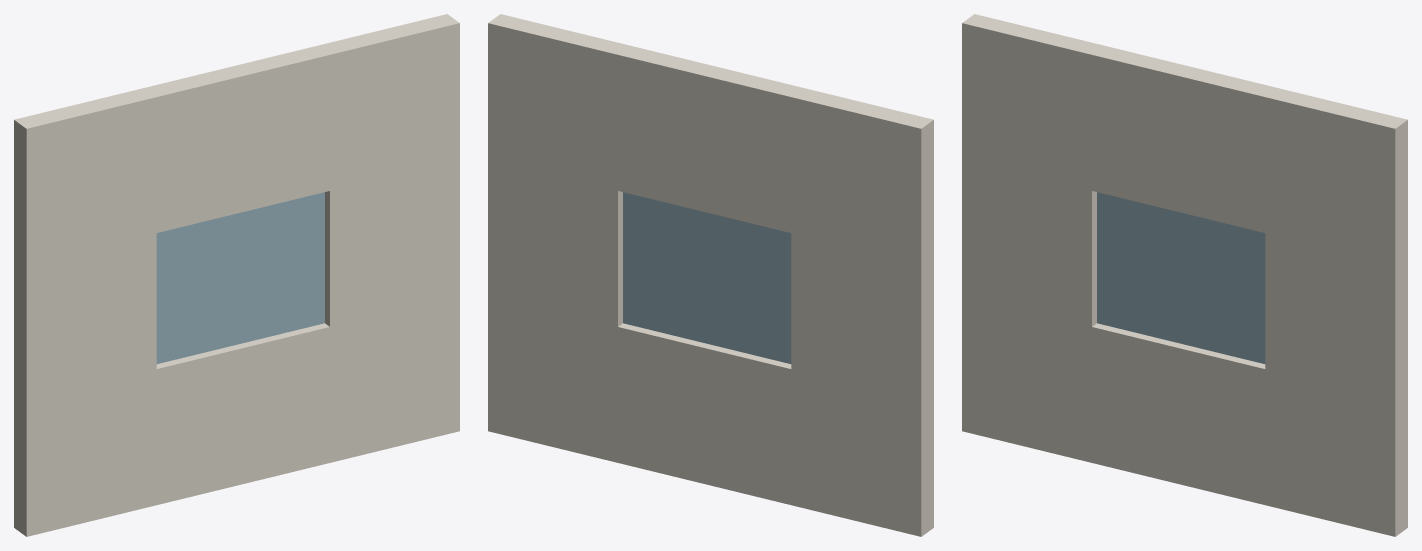
Rendered from window.glb.
3 renders of one model, left to right at view 1: azimuth 30°, elevation 25°; view 2: azimuth 150°, elevation 25°; view 3: azimuth 330°, elevation 25°, orthographic.
Parts seen in each view (by area): view 1: WINDOW; view 2: WINDOW; view 3: WINDOW.
Boxes of the visible parts, x1,y1,x2,y2 form: WINDOW: (14,14,459,536); WINDOW: (488,14,933,536); WINDOW: (962,14,1407,536).
Bounding box in the file's own units: 4 × 3.6 × 0.2.
